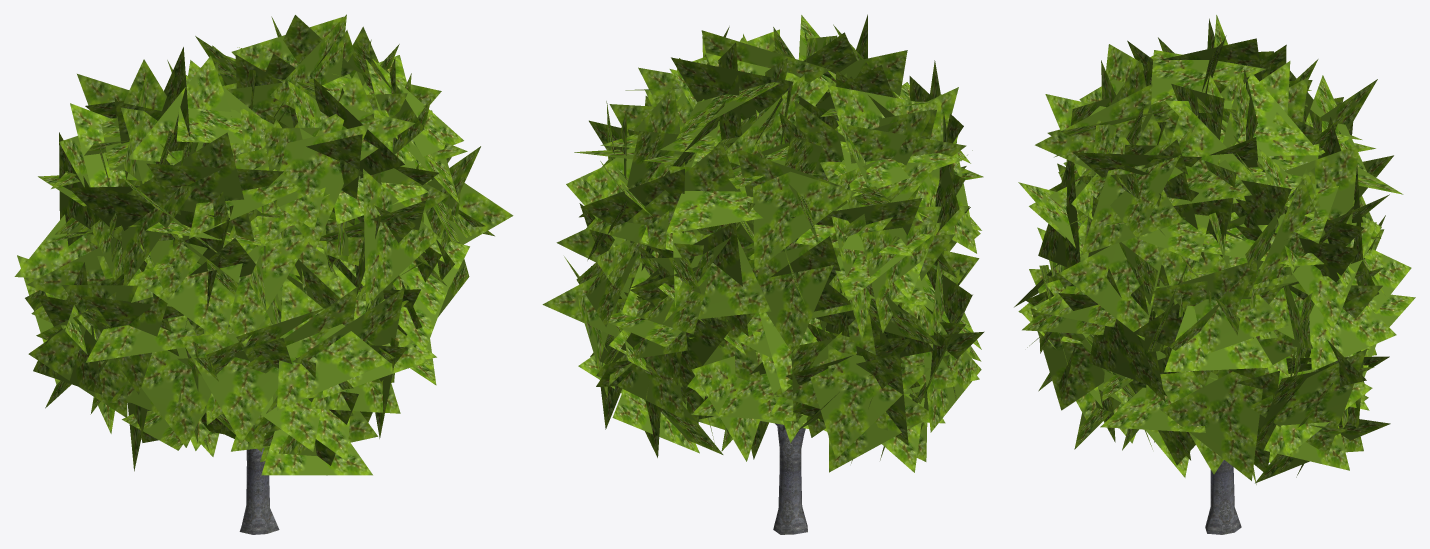
File: Platanus_Occidentalis_Spring_Young.glb
3 views of the same model, side by side, from view 1: azimuth 30°, elevation 25°; view 2: azimuth 150°, elevation 25°; view 3: azimuth 270°, elevation 25° (orthographic). The views are drawn at different scales.
Visible parts, largest first — view 1: Platanus_Occidentalis_Spring_Young__LOD3; view 2: Platanus_Occidentalis_Spring_Young__LOD3; view 3: Platanus_Occidentalis_Spring_Young__LOD3.
Boxes of the visible parts, bbox=[...] form: Platanus_Occidentalis_Spring_Young__LOD3: bbox=[14, 14, 513, 534]; Platanus_Occidentalis_Spring_Young__LOD3: bbox=[542, 14, 984, 534]; Platanus_Occidentalis_Spring_Young__LOD3: bbox=[1014, 15, 1415, 534].
Size of the model in its own units: 13 by 14.77 by 11.35.
2 materials, 2 textured.
